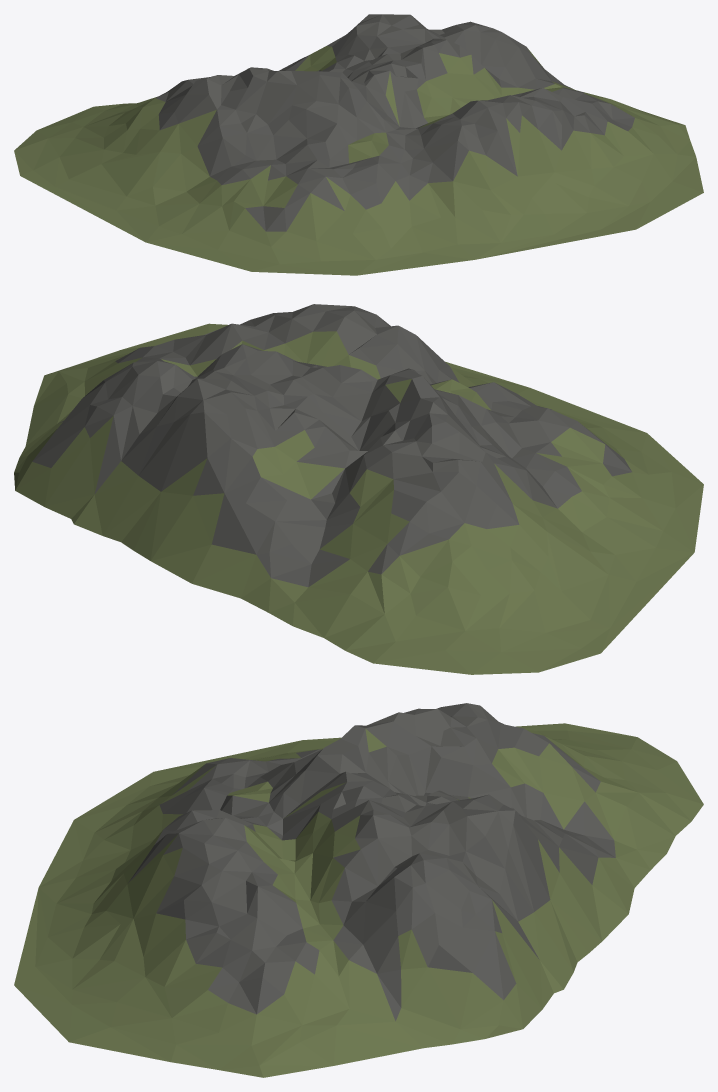
Rendered from SM_Envr_Nature_Mountain_11.fbx.
The picture shows the model from 3 angles, top to bottom: view 1: azimuth 30°, elevation 25°; view 2: azimuth 150°, elevation 25°; view 3: azimuth 270°, elevation 25°; orthographic projection. The views are drawn at different scales.
Visible parts, largest first — view 1: SM_Envr_Nature_Mountain_11; view 2: SM_Envr_Nature_Mountain_11; view 3: SM_Envr_Nature_Mountain_11.
Part boxes in pixels (<box>): SM_Envr_Nature_Mountain_11: <box>14,14,703,275</box>; SM_Envr_Nature_Mountain_11: <box>14,304,703,674</box>; SM_Envr_Nature_Mountain_11: <box>14,703,703,1077</box>.
Size of the model in its own units: 41253 by 7573 by 33933.
